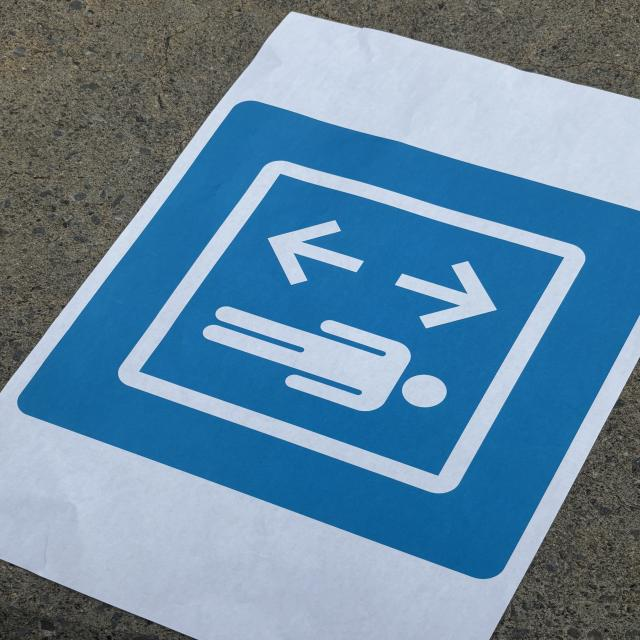elevator: (16, 103, 640, 583)
